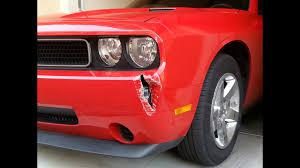front-bumper-dent: (84, 64, 210, 165)
